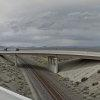Bridge: (5, 32, 92, 77)
